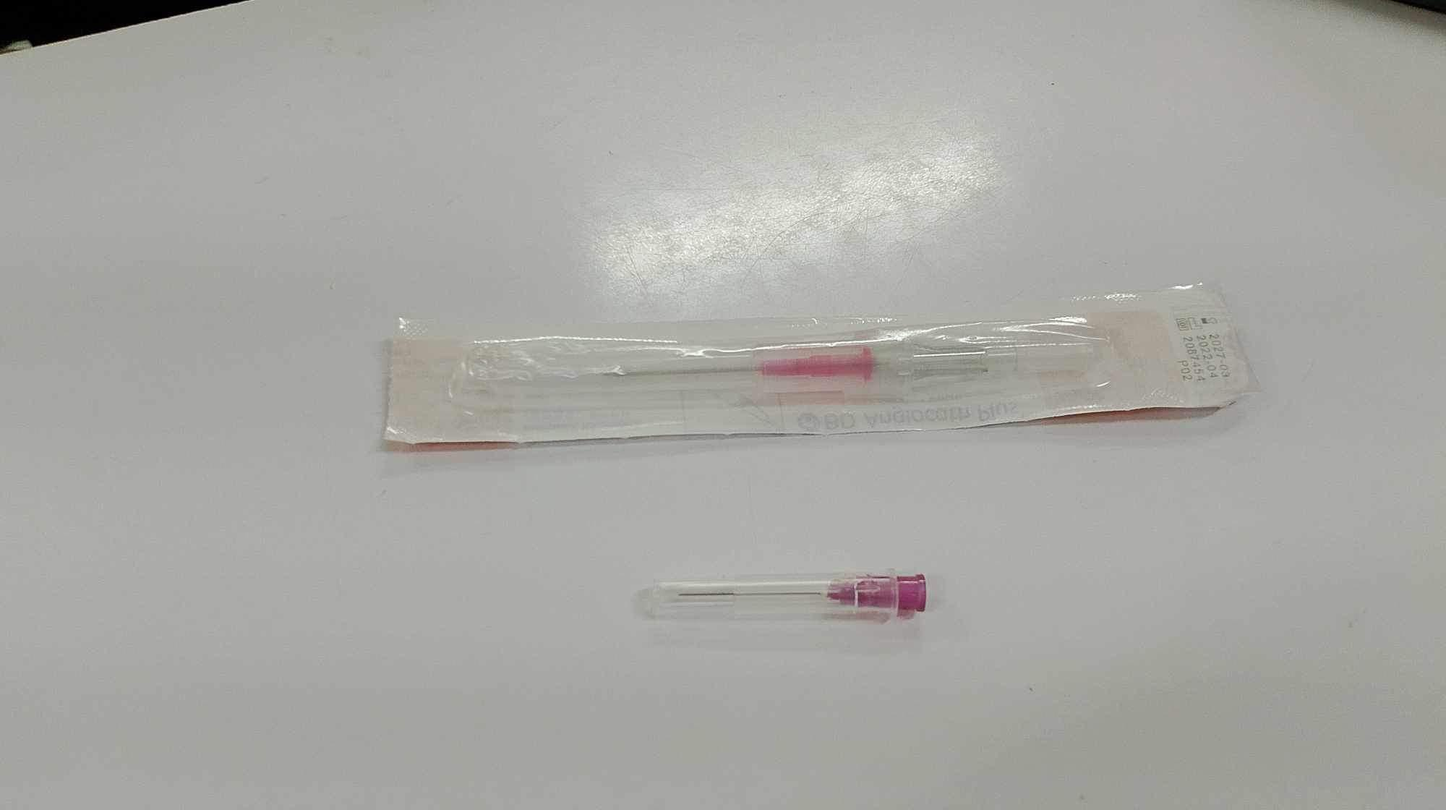General: (380, 278, 1260, 451)
Sharps: (633, 568, 928, 623)
